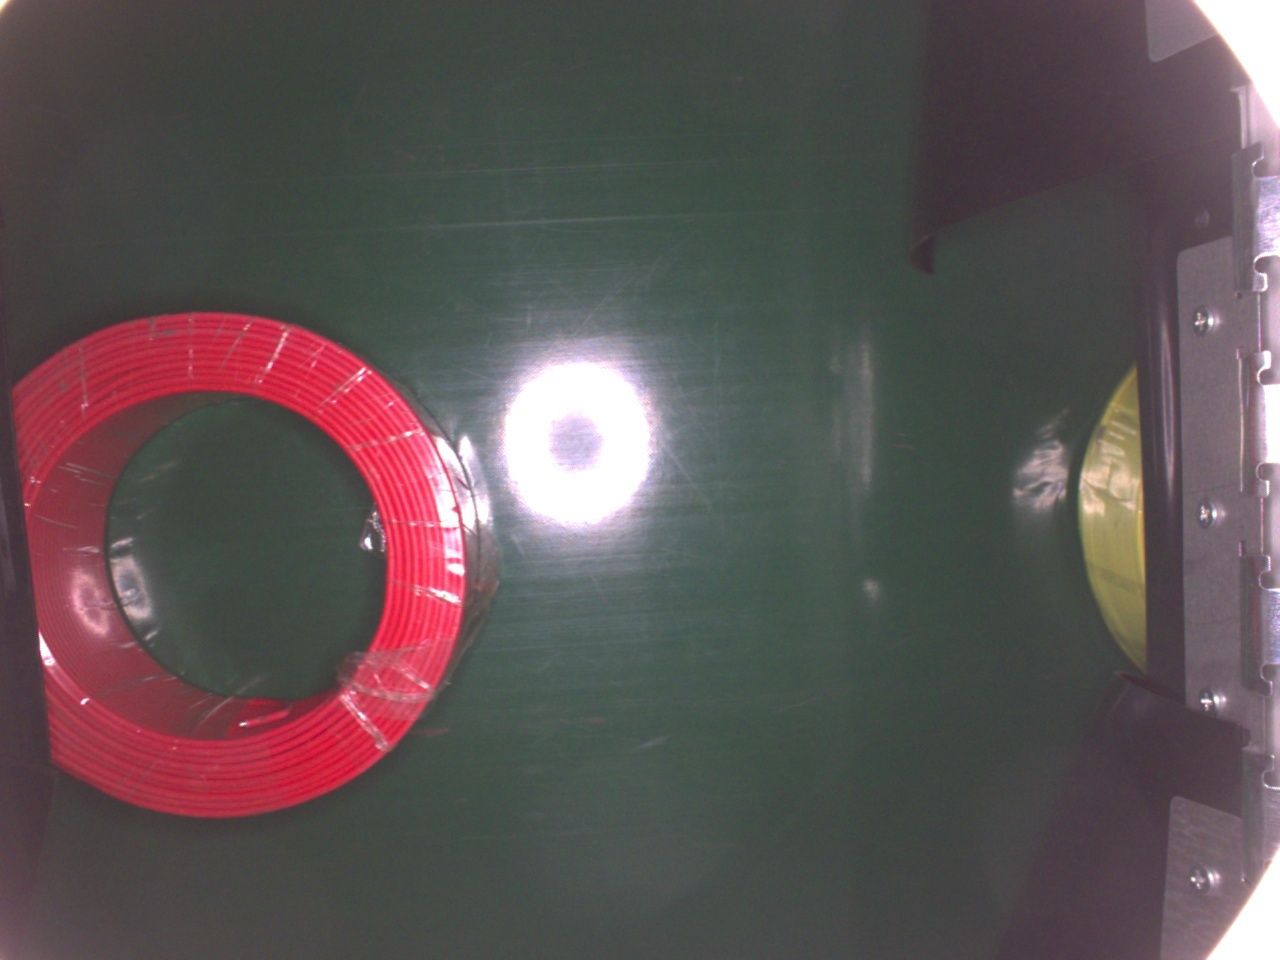red: (13, 303, 475, 824)
